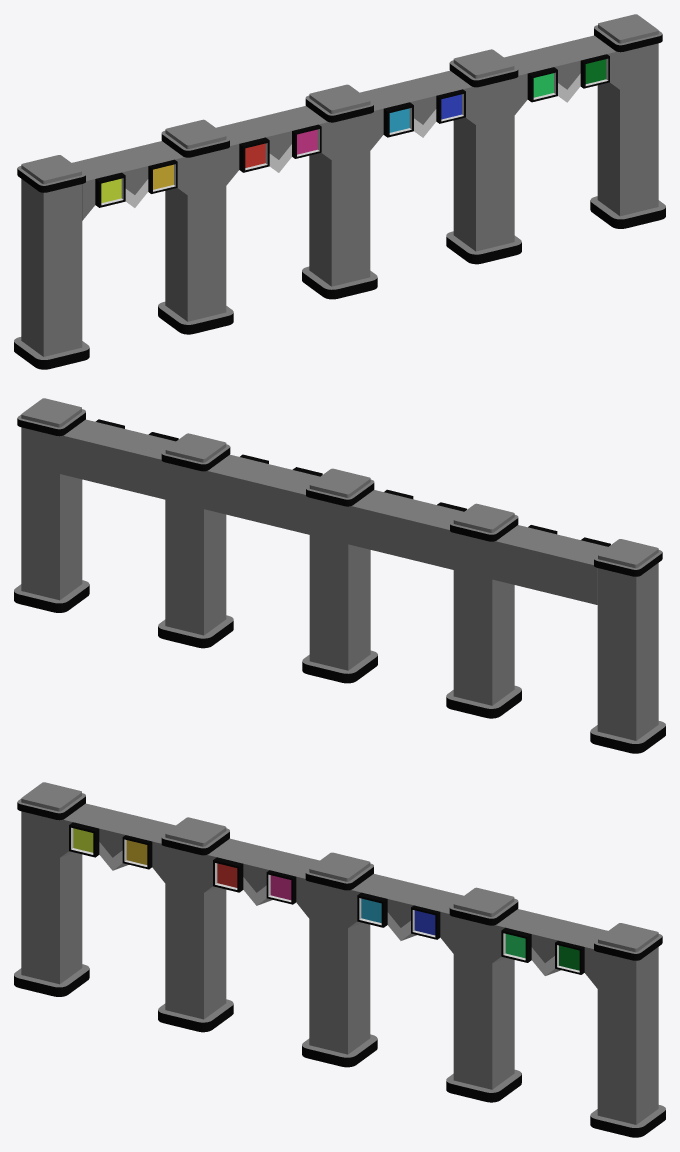
The model's file is Puente.fbx.
The picture shows the model from 3 angles, top to bottom: view 1: azimuth 30°, elevation 25°; view 2: azimuth 150°, elevation 25°; view 3: azimuth 330°, elevation 25°; orthographic projection.
Parts seen in each view (by area): view 1: Puente; view 2: Puente; view 3: Puente.
Boxes of the visible parts, <box> form: Puente: <box>14,14,665,369</box>; Puente: <box>14,398,665,753</box>; Puente: <box>14,782,665,1137</box>.
Size of the model in its own units: 35.75 by 10.1 by 3.
